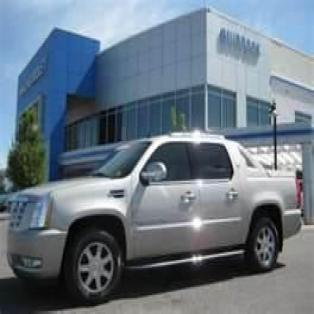Auto: (6, 136, 303, 306)
